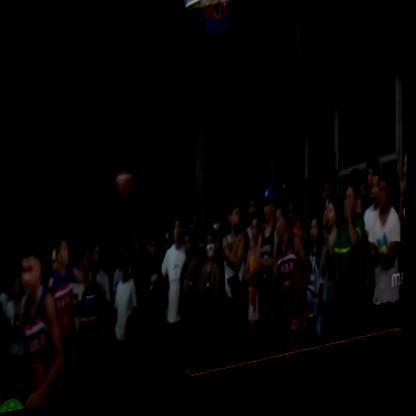basketball: (113, 161, 142, 214)
rim: (190, 0, 246, 57)
